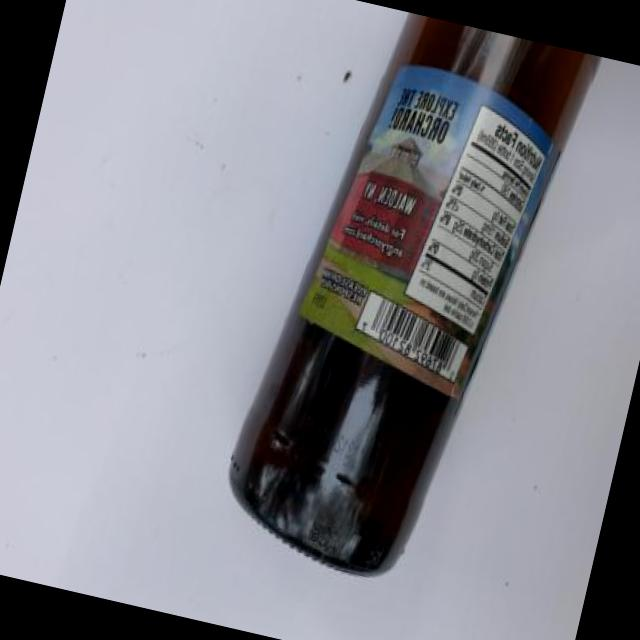chai_thuy_tinh: (229, 12, 600, 577)
